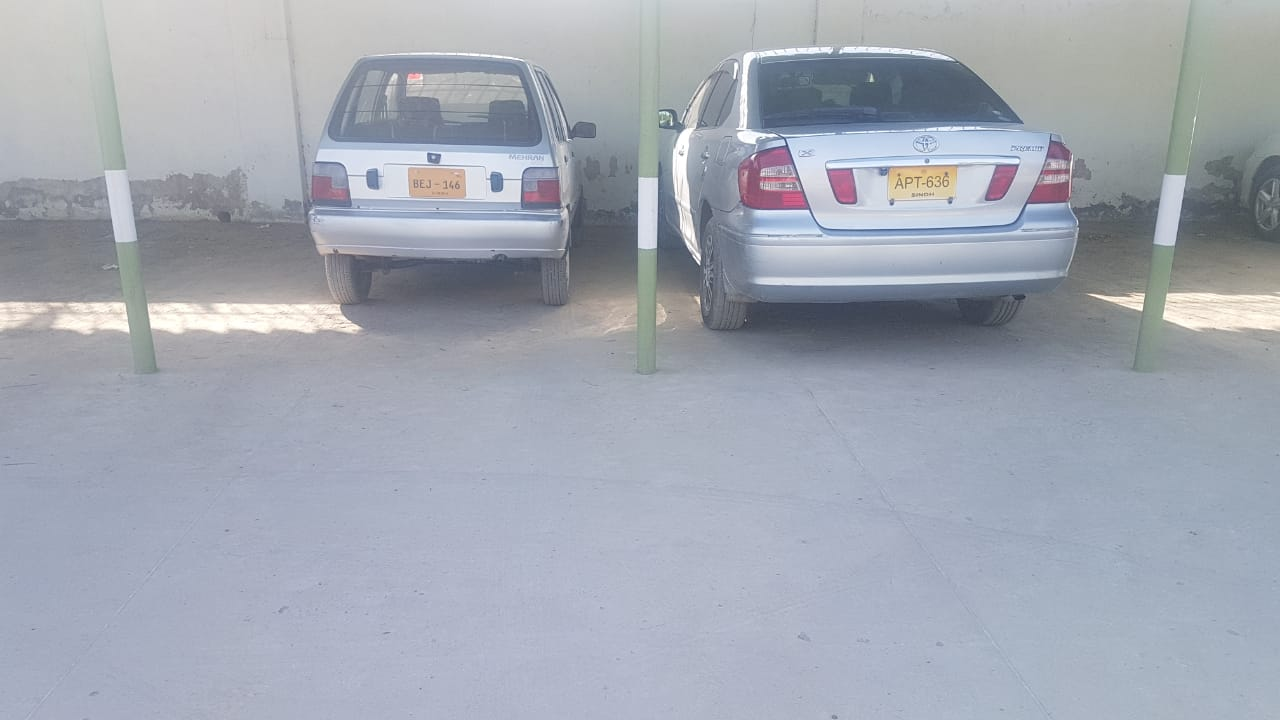license plate: (889, 168, 957, 200), (407, 166, 467, 199)
